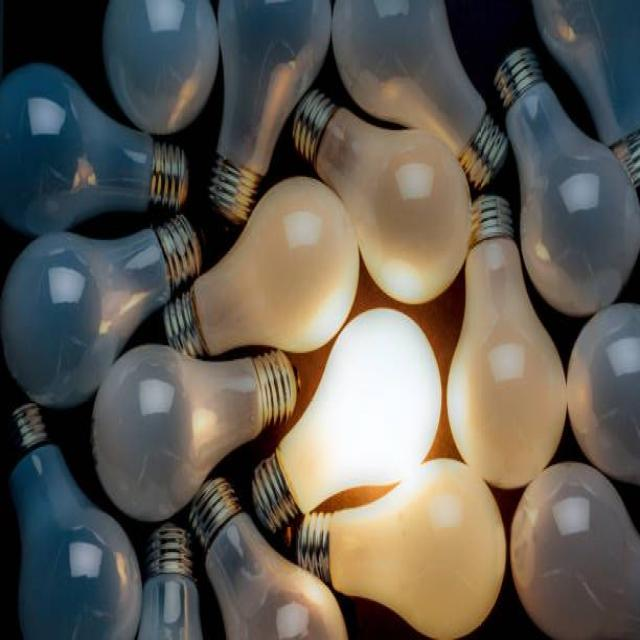electronic: (0, 0, 638, 638), (251, 304, 441, 534), (290, 86, 472, 304), (0, 212, 202, 408), (493, 44, 639, 315), (295, 455, 506, 638), (90, 340, 300, 522), (162, 174, 360, 358), (445, 195, 567, 490), (330, 0, 507, 191), (0, 61, 188, 235), (6, 402, 142, 638), (207, 0, 331, 224), (187, 476, 348, 638), (509, 460, 639, 638), (102, 0, 218, 135)
